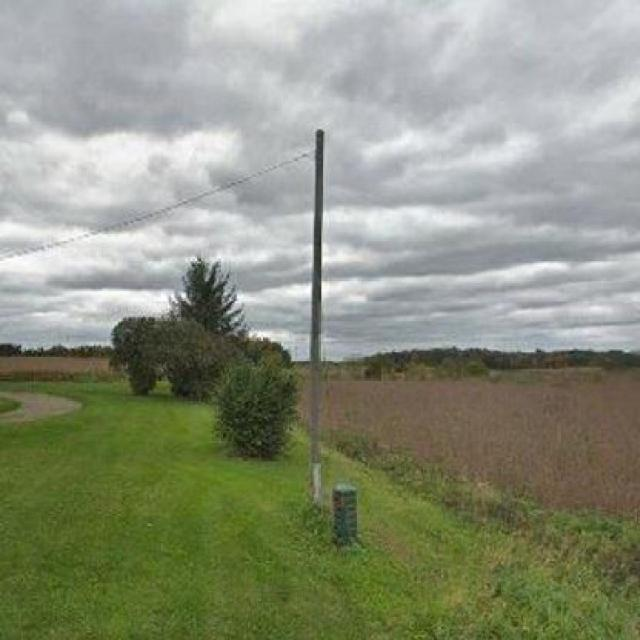pole: (292, 120, 340, 505)
